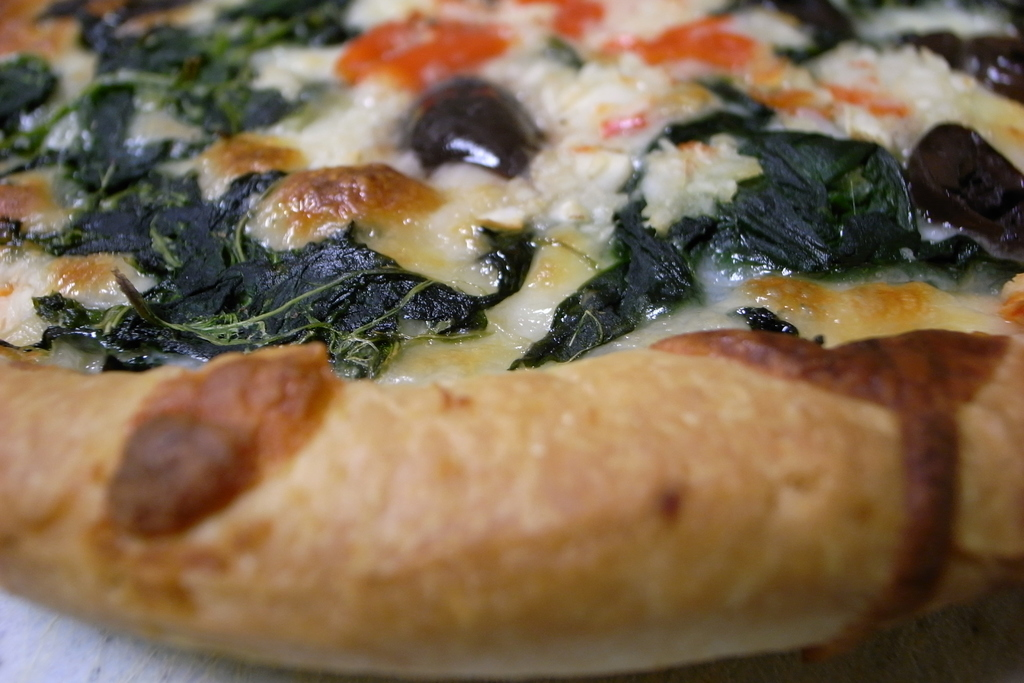Pizza: (0, 42, 1024, 683)
